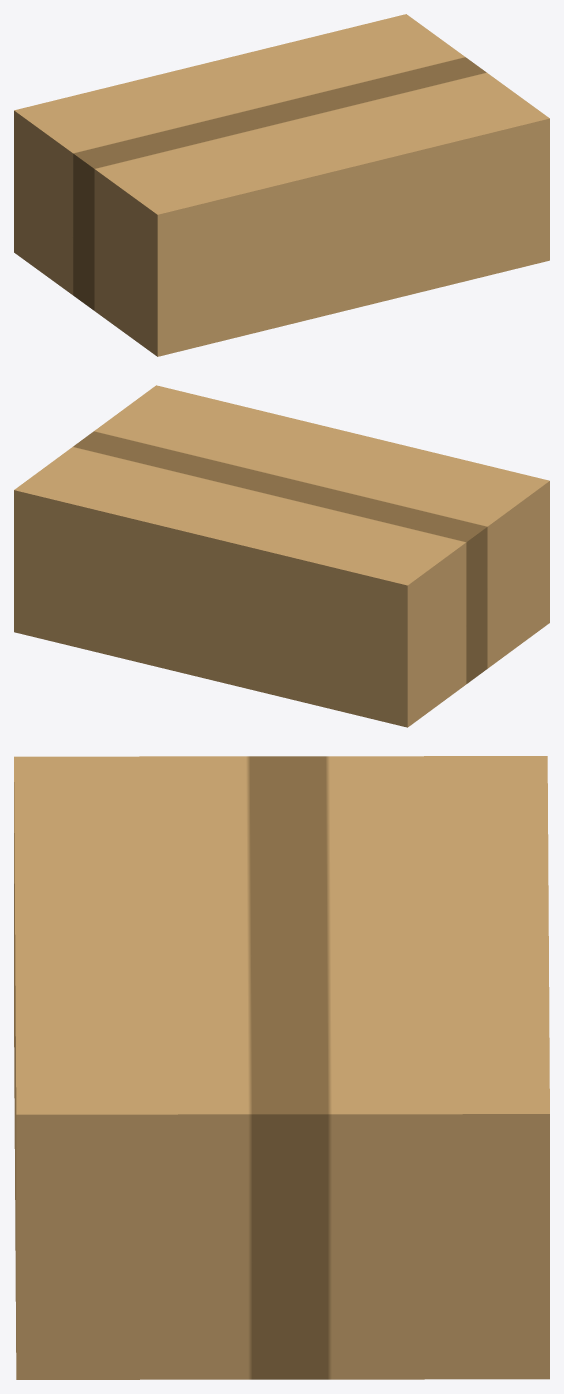
The picture shows the model from 3 angles, top to bottom: view 1: azimuth 30°, elevation 25°; view 2: azimuth 150°, elevation 25°; view 3: azimuth 270°, elevation 25°; orthographic projection. The views are drawn at different scales.
Visible parts, largest first — view 1: box6; view 2: box6; view 3: box6.
Part boxes in pixels (box(x1,y1,x2,y2)): box6: box(14, 14, 549, 356); box6: box(14, 385, 549, 727); box6: box(14, 756, 549, 1379).
Size of the model in its own units: 8.07 by 2.78 by 5.1.
1 material, 1 textured.
